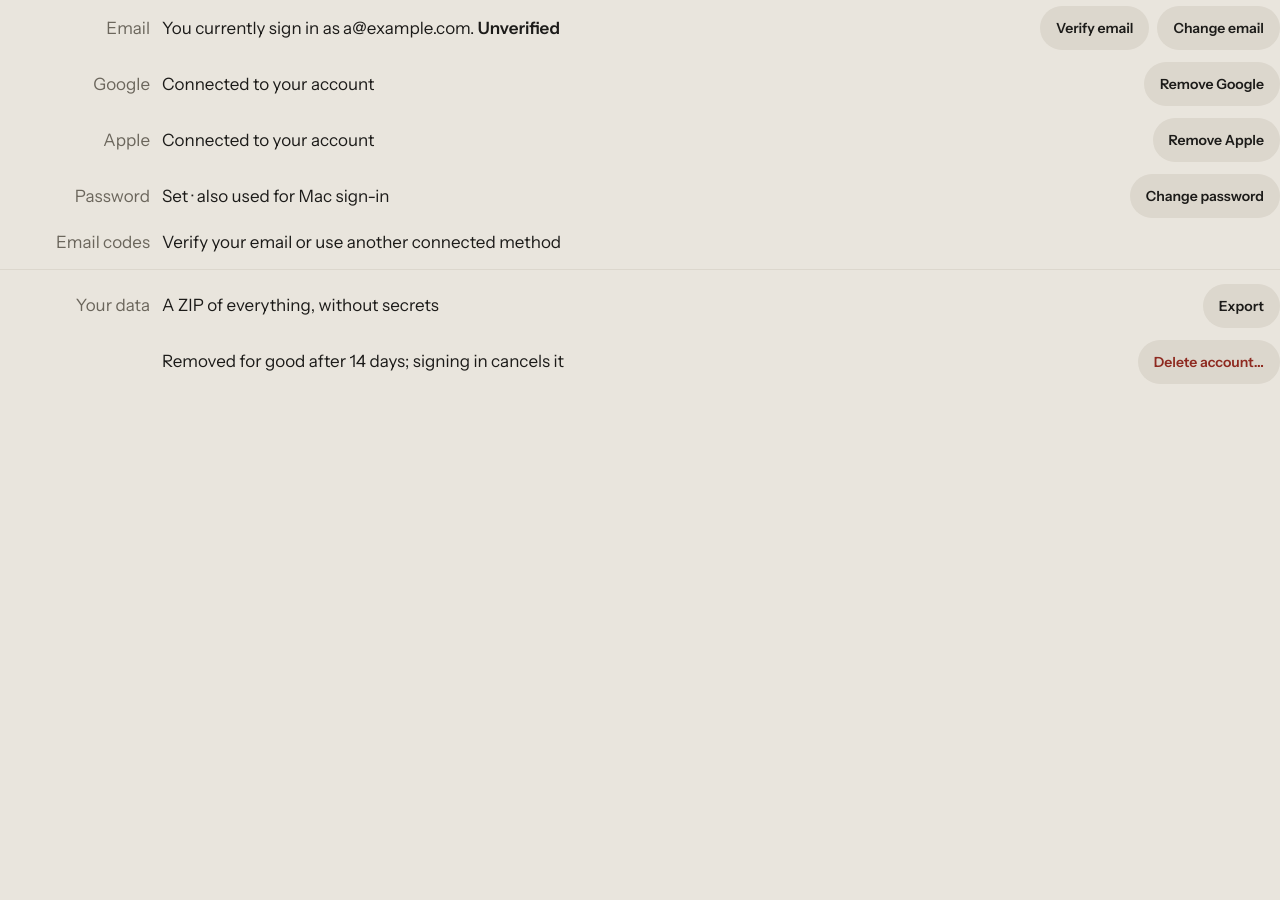
Scenario: 023-FR-006/008/009/011/013/015/016/021 remaining auth failure and recovery journeys › a foreign email completion does not update this account and cannot be replayed
The width and height of the screenshot is (1280, 900).
Click the button "Verify email" at (1095,28), box [1040,6,1149,50]
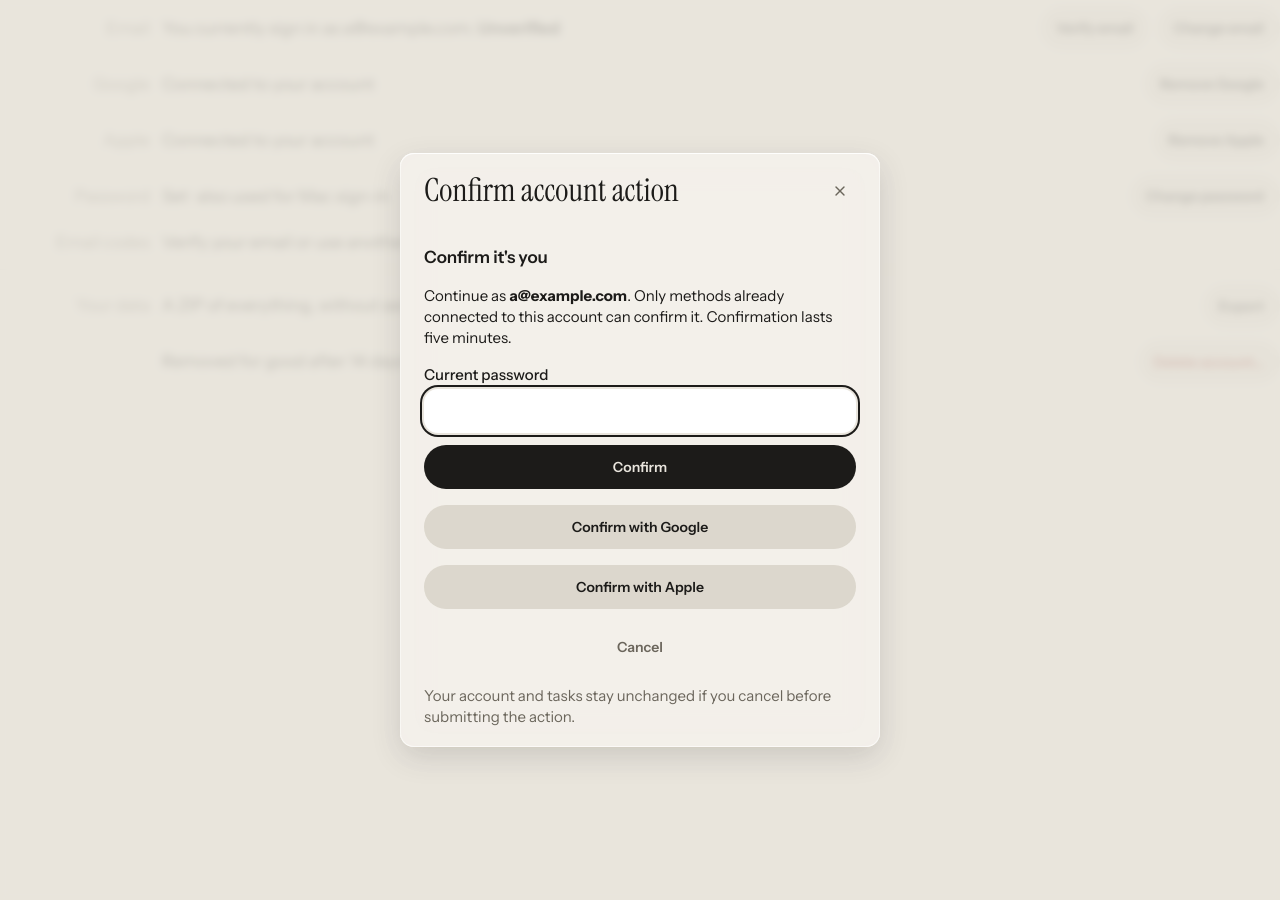
Type "private-password" into the password field labelled "Current password" at (640,411), box [424,389,856,433]
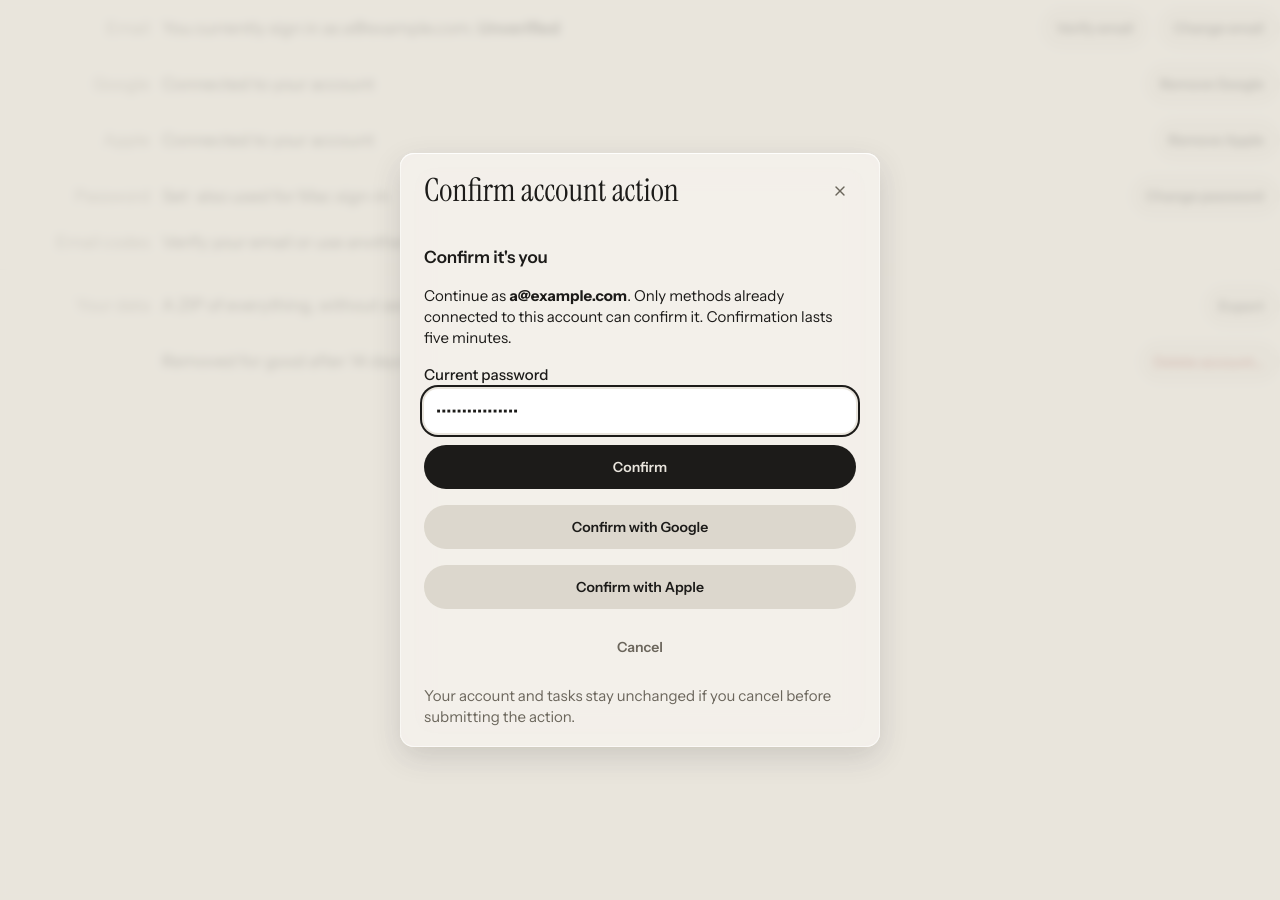
Click the button "Confirm" at (640,467), box [424,445,856,489]
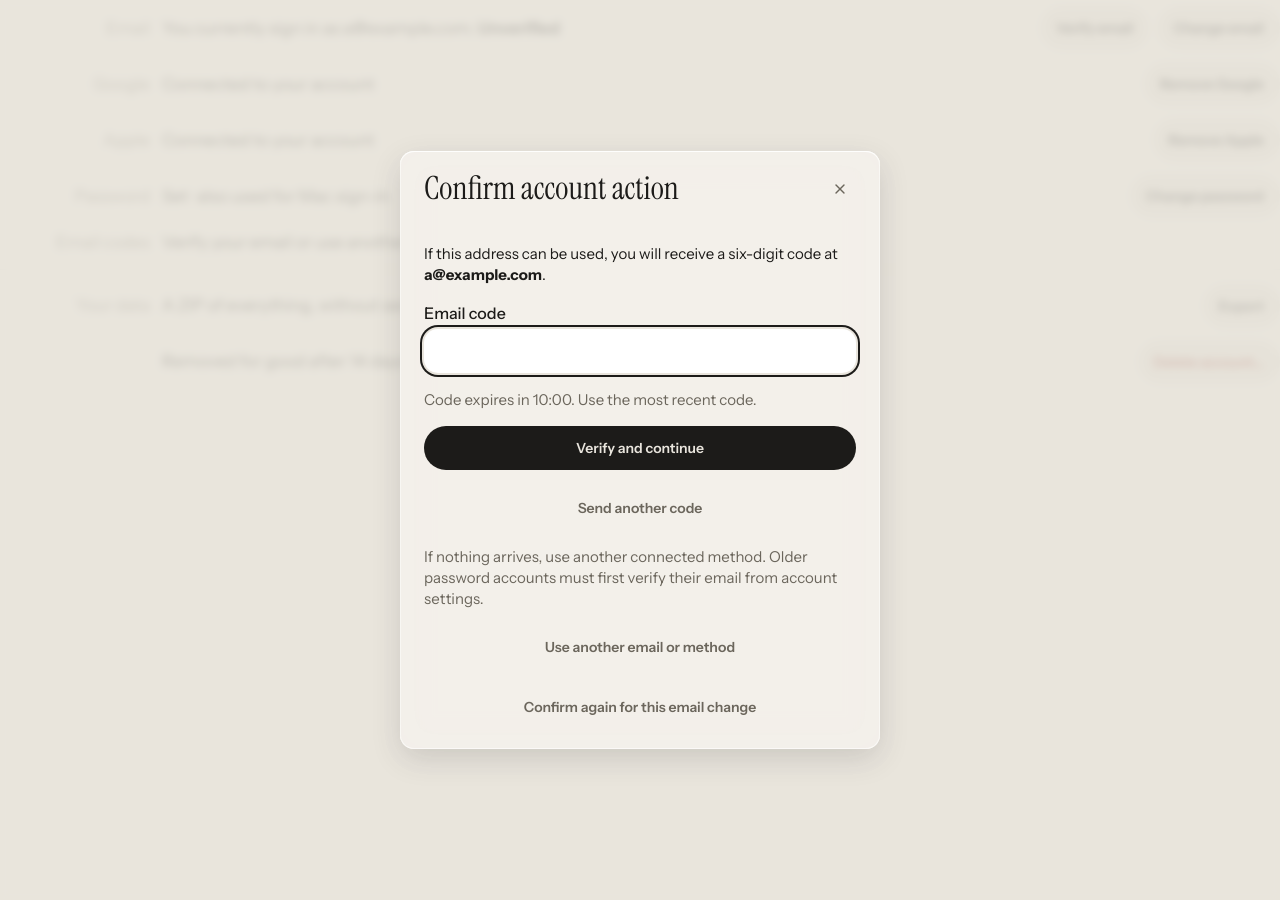
expect the field labelled "Email code" is shown: met
Type "123456" into the field labelled "Email code" at (640,351), box [424,329,856,373]
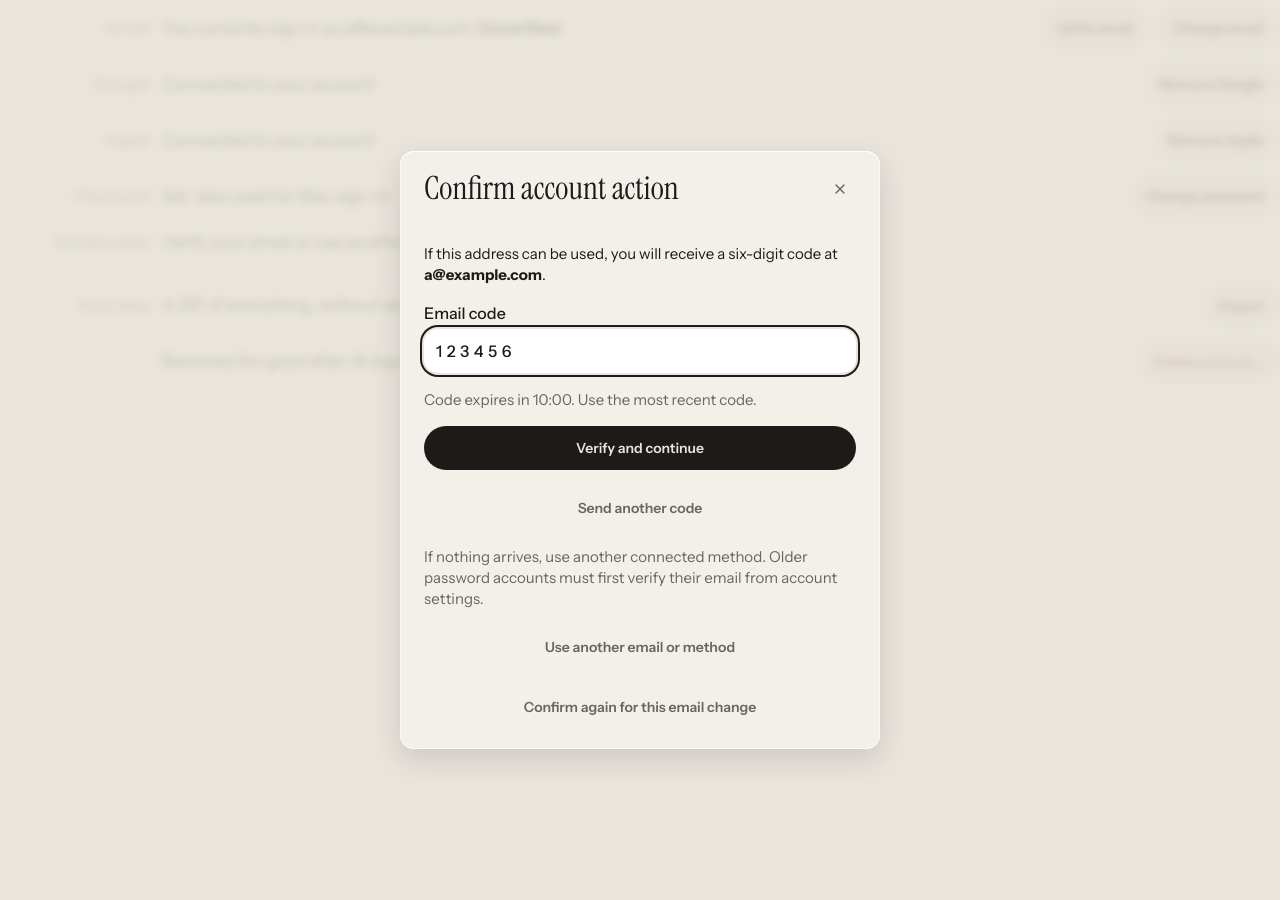
Submit the form labelled "Email code", box [424,301,856,470]
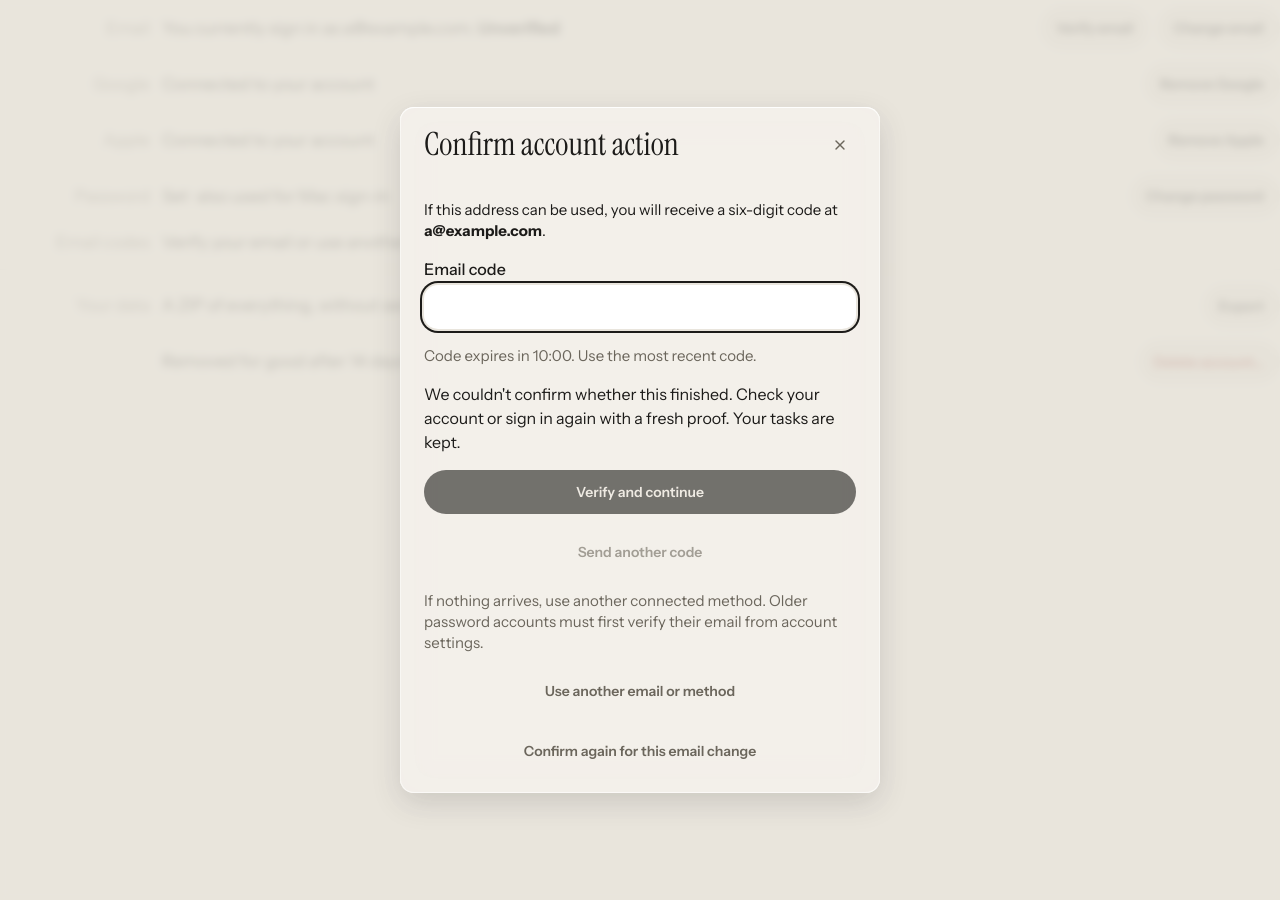
expect the text "a@example.com" is shown: met, box [424,221,542,240]
expect the message shows "couldn't confirm whether this finished": met, box [424,384,834,452]
expect the button "Verify and continue" is disabled: met, box [424,470,856,514]
